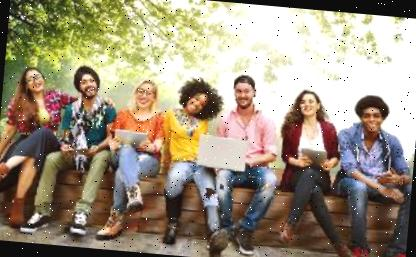person: (204, 64, 288, 257), (326, 83, 416, 257), (148, 76, 232, 256), (40, 55, 122, 235), (265, 82, 347, 257), (96, 69, 171, 248), (0, 56, 73, 234)
